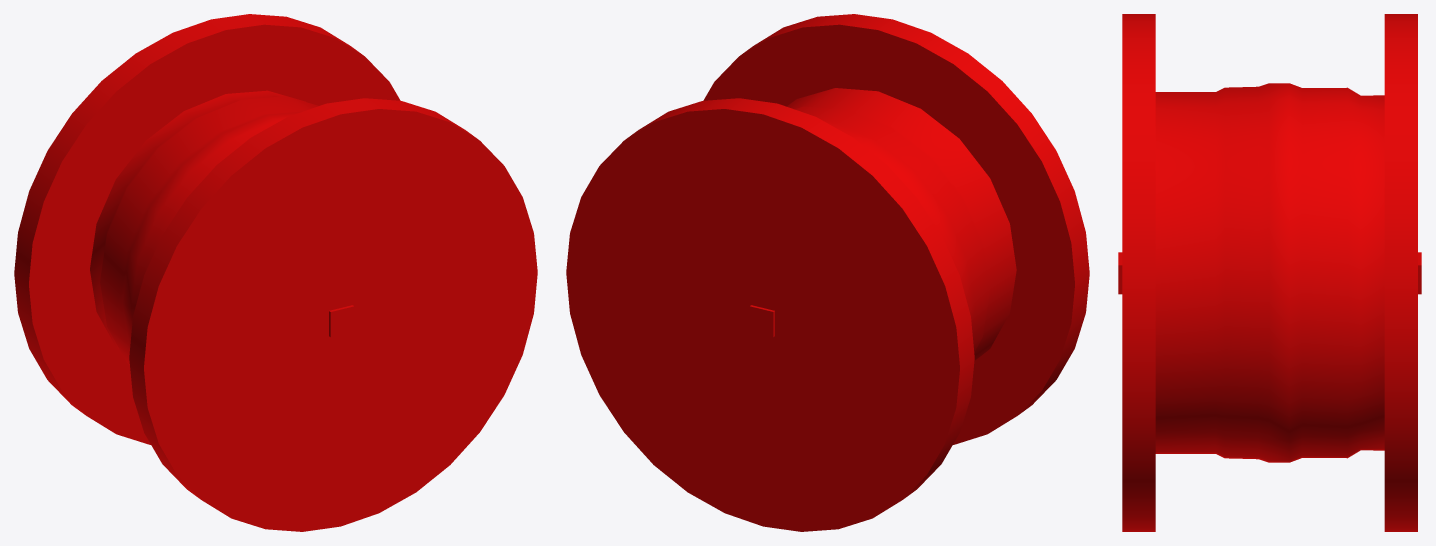
Rendered from Cable_Reel_01_Lod0.fbx.
3 renders of one model, left to right at view 1: azimuth 30°, elevation 25°; view 2: azimuth 150°, elevation 25°; view 3: azimuth 270°, elevation 25°, orthographic. The views are drawn at different scales.
Parts seen in each view (by area): view 1: Cable_Reel_01_Lod0; view 2: Cable_Reel_01_Lod0; view 3: Cable_Reel_01_Lod0.
Boxes of the visible parts, x1=… form: Cable_Reel_01_Lod0: x1=14, y1=14, x2=537, y2=531; Cable_Reel_01_Lod0: x1=566, y1=14, x2=1089, y2=531; Cable_Reel_01_Lod0: x1=1118, y1=14, x2=1421, y2=531.
Size of the model in its own units: 199 by 199 by 116.
